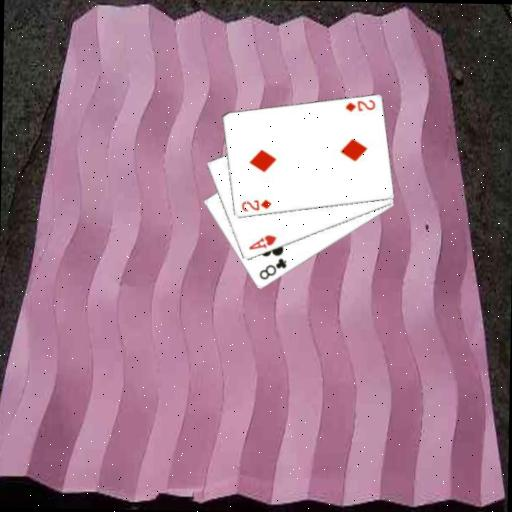2D: (342, 96, 377, 114), (239, 196, 273, 214)
8C: (256, 255, 288, 282)
AH: (246, 232, 278, 253)
